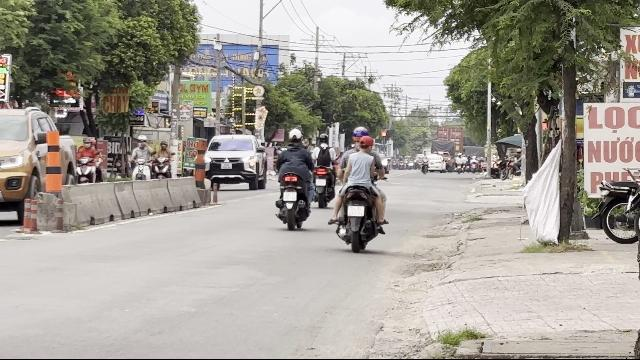helmet: (352, 126, 368, 138)
licenseplate: (348, 205, 364, 217)
motorcyclist: (328, 126, 389, 250)
nohelmet: (358, 134, 374, 152)
